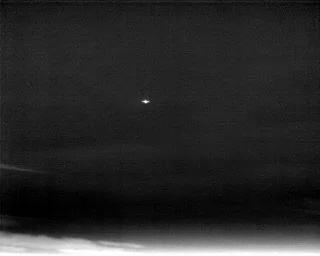AIRPLANE: (140, 97, 151, 105)
